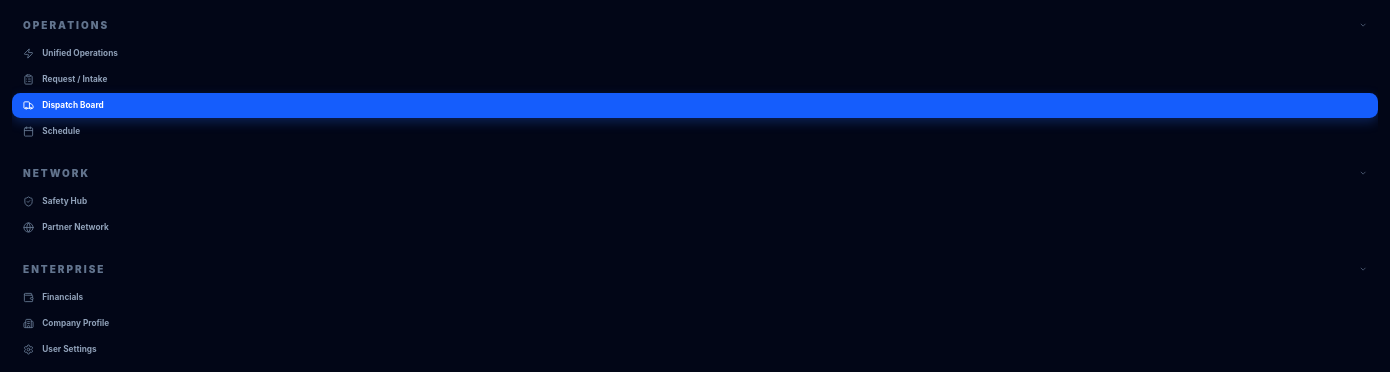
SidebarTree › expands a collapsed category when its header is clicked again
// Collapse Operations
Click the button "Operations": click(66, 24) left=12, top=12, right=1378, bottom=38
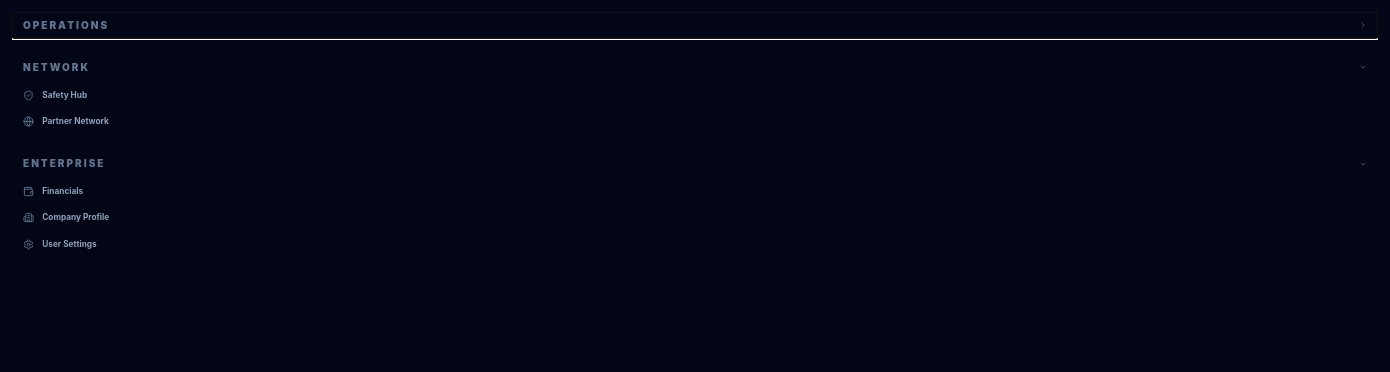
Expected: the button "Dispatch Board" is gone
// Expand Operations
Click the button "Operations": click(66, 24) left=12, top=12, right=1378, bottom=38
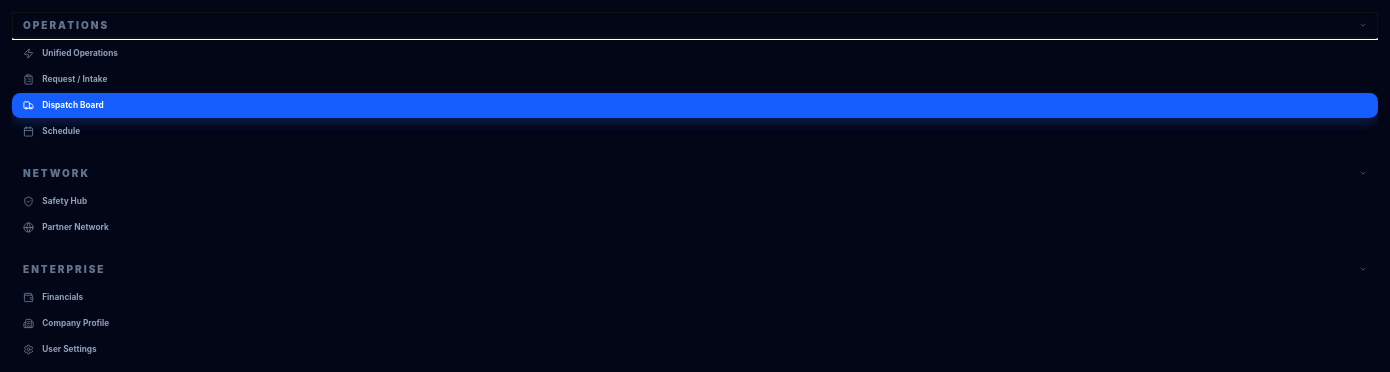
Expected: the button "Dispatch Board" is shown, left=12, top=93, right=1378, bottom=118
